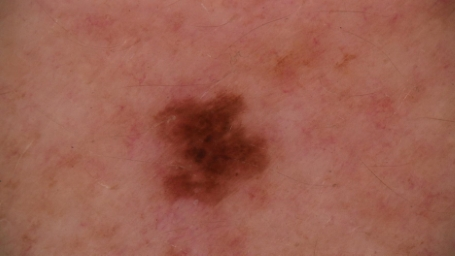melanoma: (152, 92, 264, 201)
